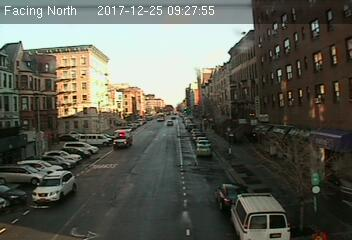car: (31, 170, 74, 206), (214, 182, 250, 209), (197, 144, 211, 158)
truck: (228, 192, 292, 240), (111, 128, 134, 148)
